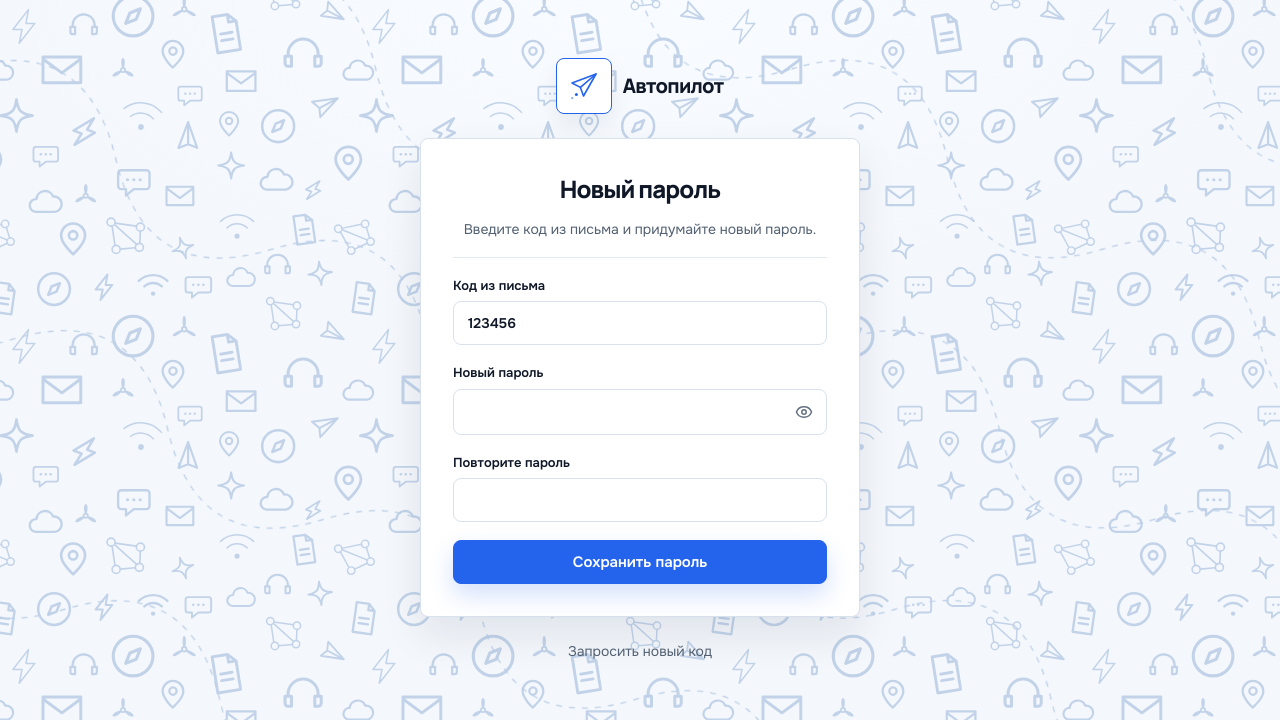
Test: password reset pages › does not submit passwords that differ
Step 1. Type "new-password" into the password field labelled "Новый пароль" → {"x": 620, "y": 412}, box [454, 390, 786, 434]
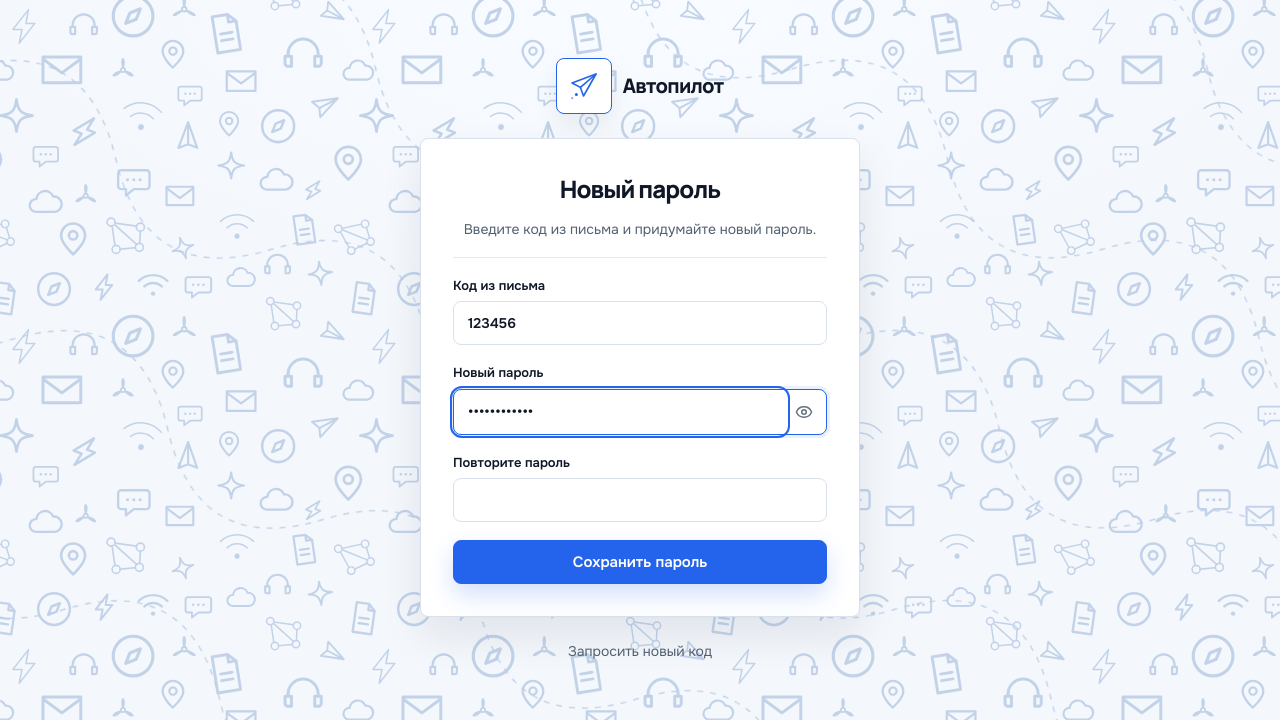
Step 2. Type "other-password" into the password field labelled "Повторите пароль" → {"x": 640, "y": 500}, box [453, 478, 827, 522]
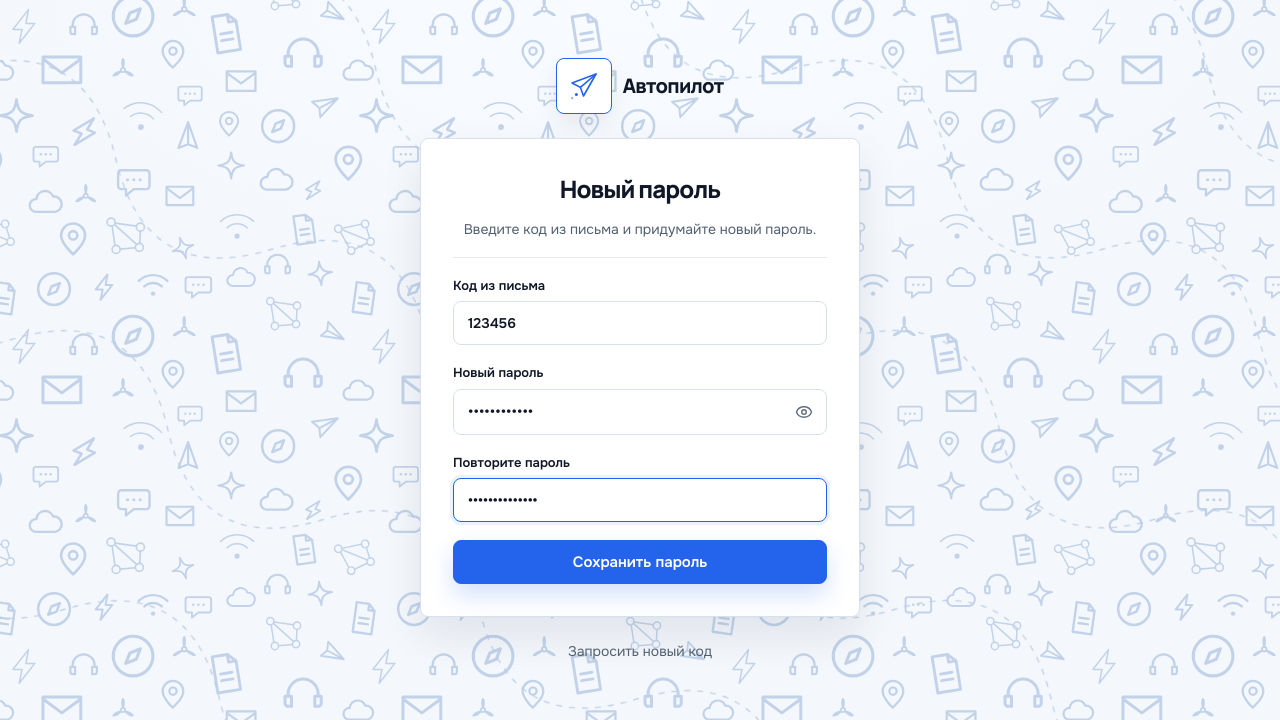
Step 3. Click the button "Сохранить пароль" → {"x": 640, "y": 562}, box [453, 540, 827, 584]
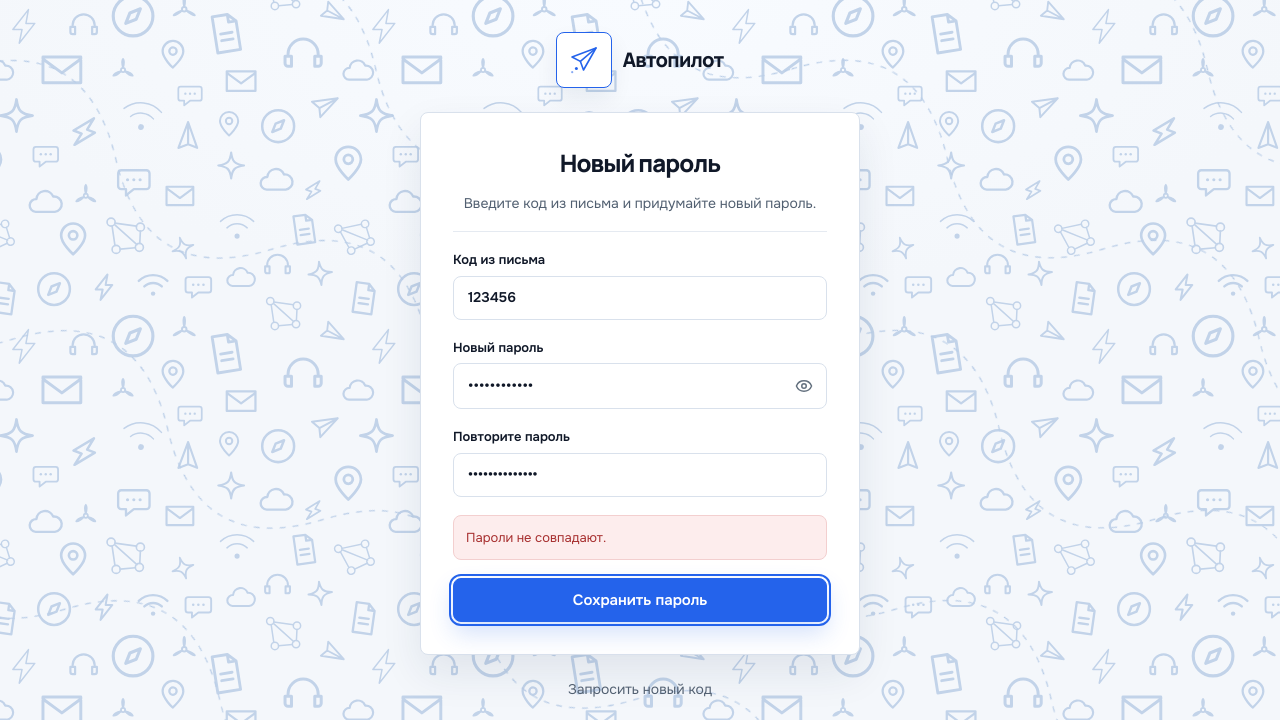
Check: the message shows "Пароли не совпадают", box [466, 528, 606, 546]
